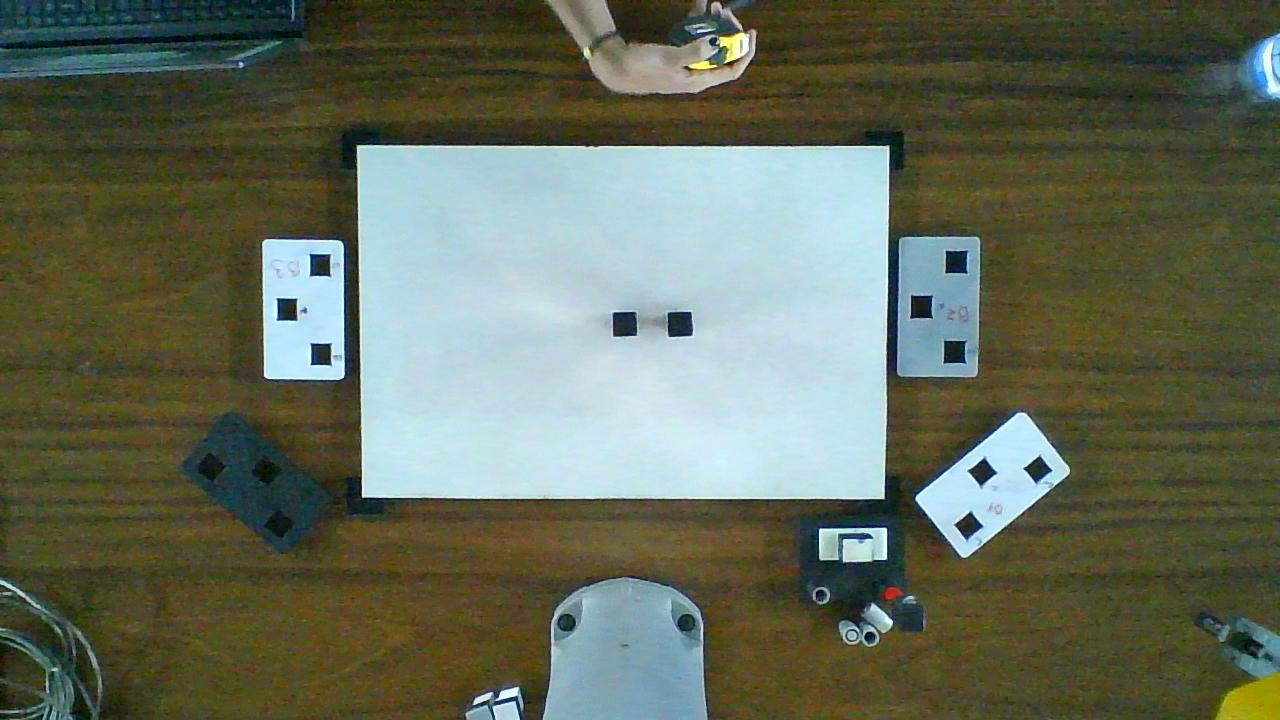peca_preta: (613, 313, 636, 336), (669, 313, 691, 336)
